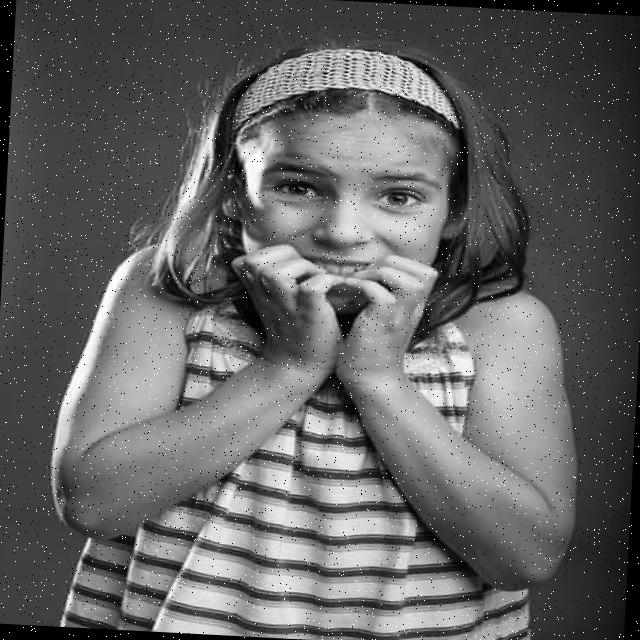Fear: (238, 107, 458, 316)
